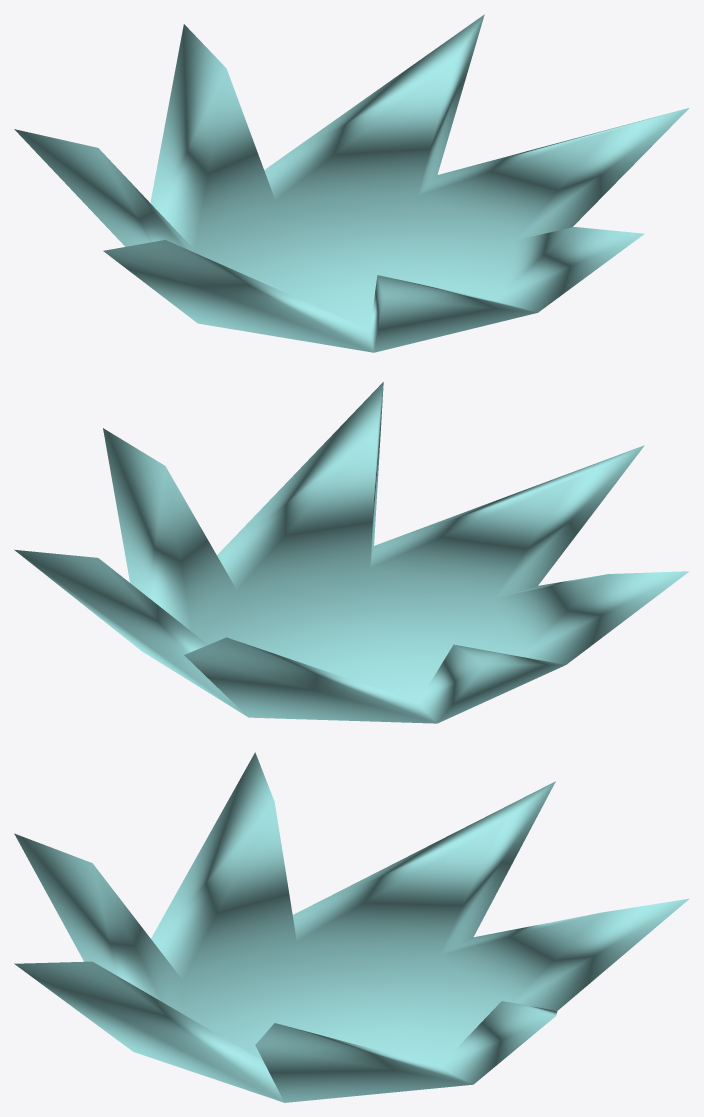
The model's file is level_portal.fbx.
The picture shows the model from 3 angles, top to bottom: view 1: azimuth 30°, elevation 25°; view 2: azimuth 150°, elevation 25°; view 3: azimuth 270°, elevation 25°; orthographic projection. The views are drawn at different scales.
Parts seen in each view (by area): view 1: Cylinder; view 2: Cylinder; view 3: Cylinder.
Part boxes in pixels (x1,y1,x2,y2): Cylinder: (14, 14, 688, 352); Cylinder: (14, 382, 689, 723); Cylinder: (14, 752, 689, 1102).
Bounding box in the file's own units: 1.95 × 0.3489 × 1.9.
